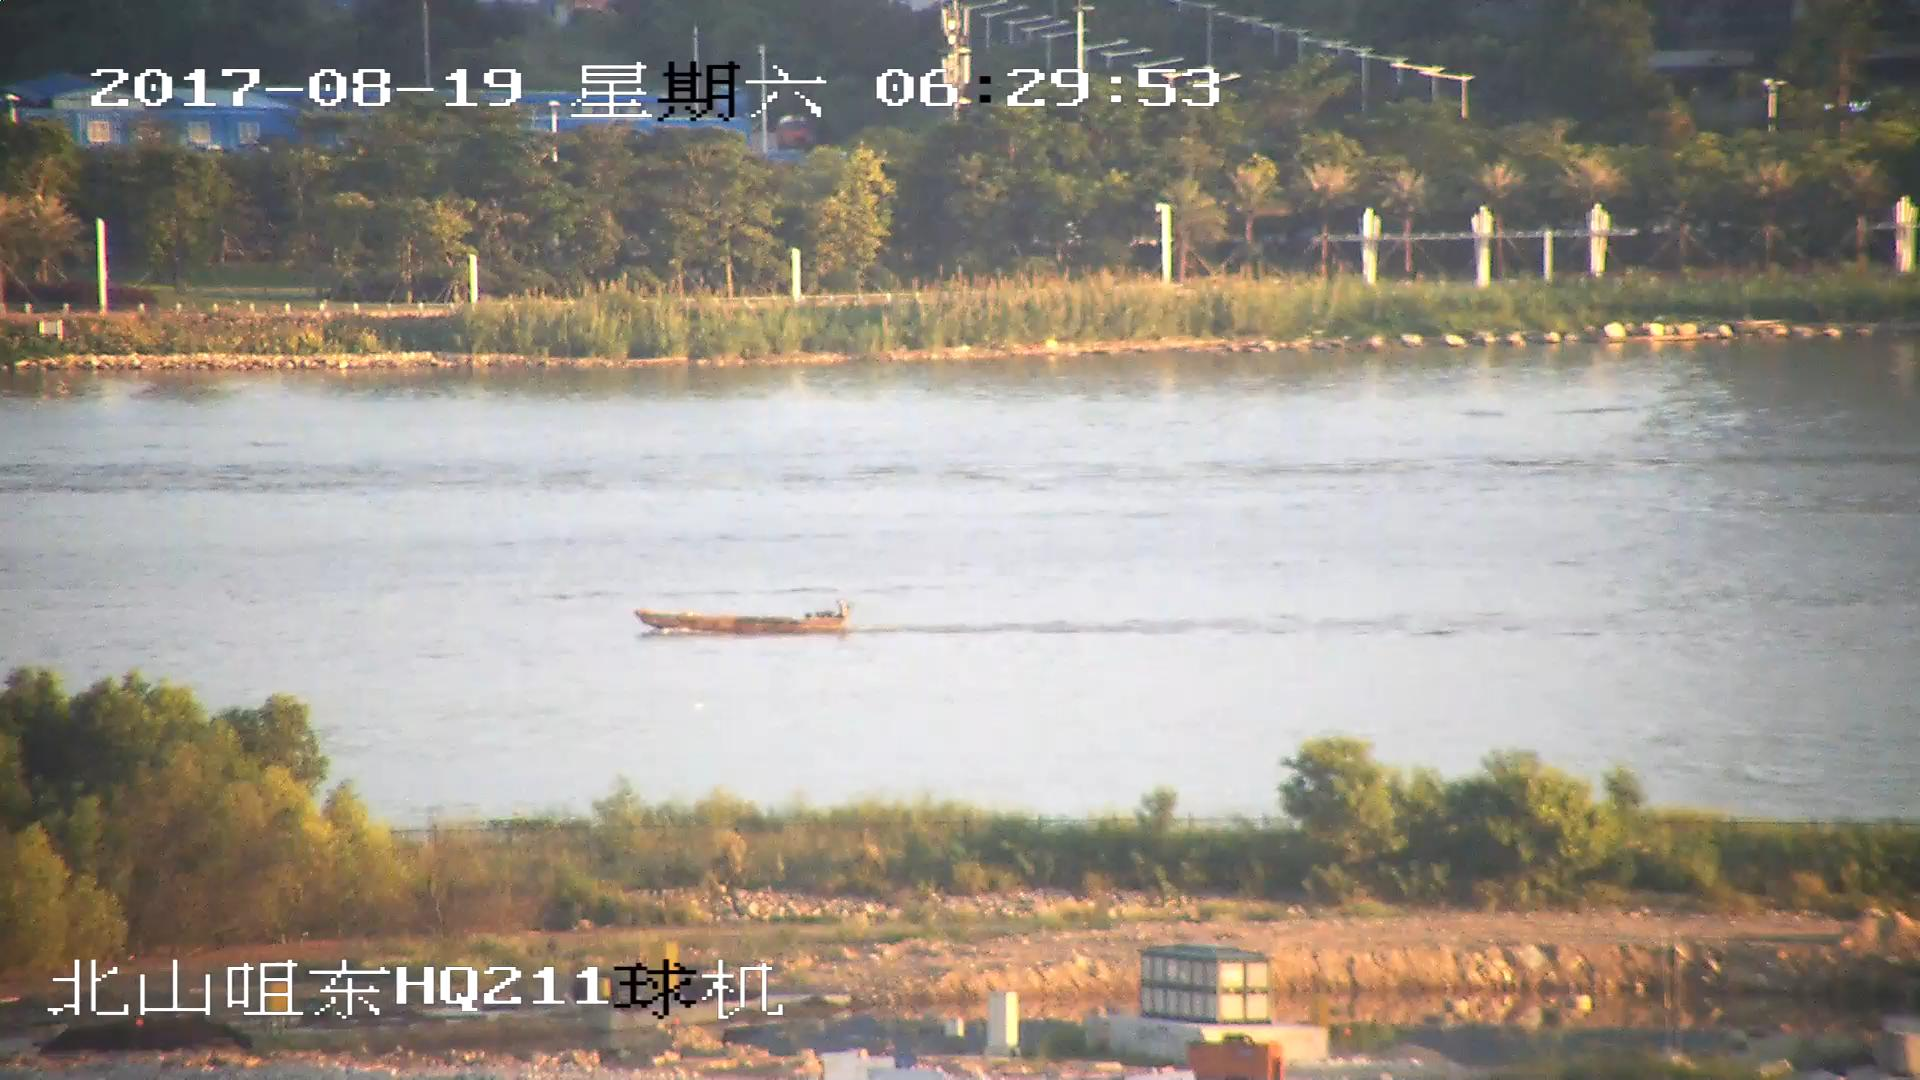fishing boat: (635, 600, 845, 638)
